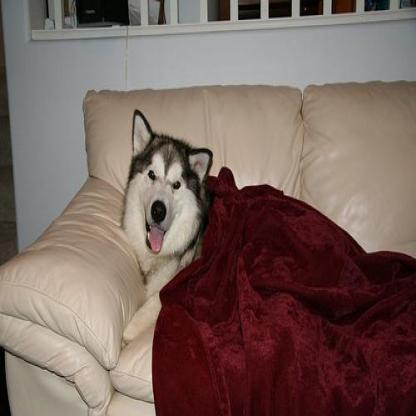malamute: (116, 104, 211, 340)
